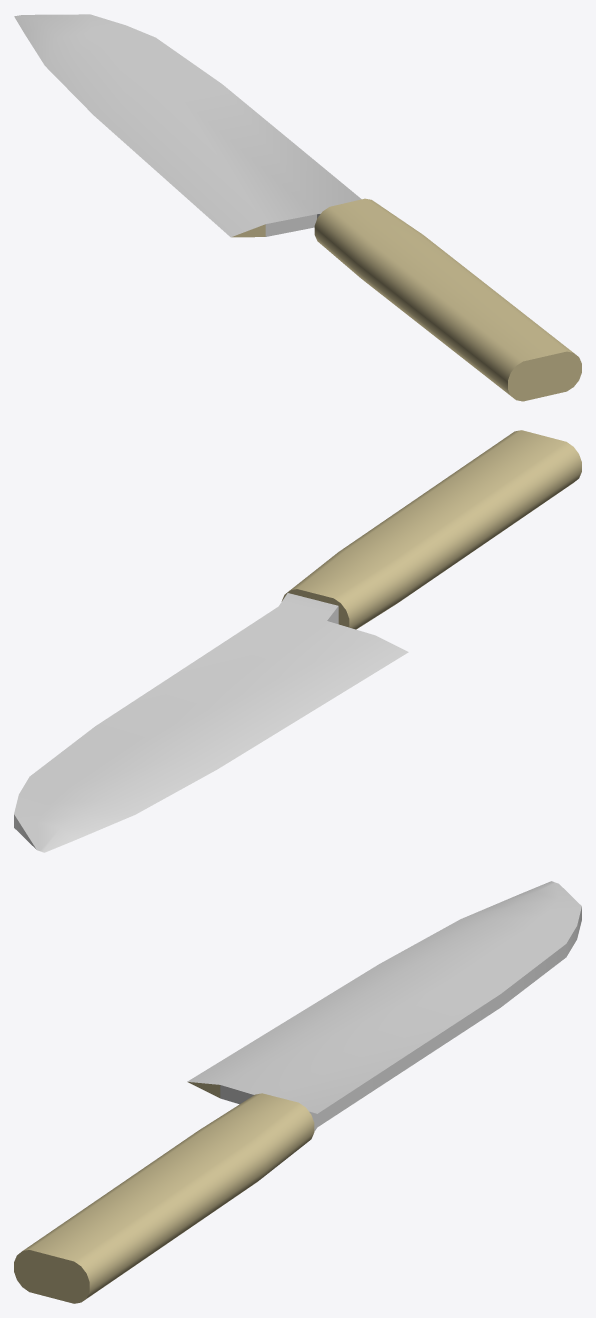
File: nóż.fbx
3 views of the same model, one above another, from view 1: azimuth 30°, elevation 25°; view 2: azimuth 150°, elevation 25°; view 3: azimuth 330°, elevation 25° (orthographic). The views are drawn at different scales.
Parts seen in each view (by area): view 1: Cube; view 2: Cube; view 3: Cube.
Part boxes in pixels (x1=…): Cube: x1=14, y1=14, x2=581, y2=401; Cube: x1=14, y1=430, x2=581, y2=852; Cube: x1=14, y1=881, x2=581, y2=1303.
Size of the model in its own units: 107 by 28.46 by 647.
